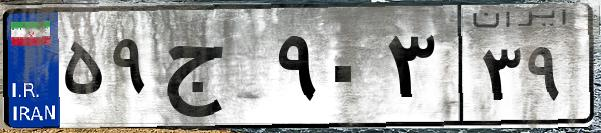0: (330, 28, 385, 110)
3: (385, 28, 445, 110), (475, 38, 525, 113)
5: (57, 26, 110, 100)
9: (270, 28, 330, 110), (525, 38, 570, 115), (110, 28, 158, 98)
ج: (158, 20, 270, 120)
